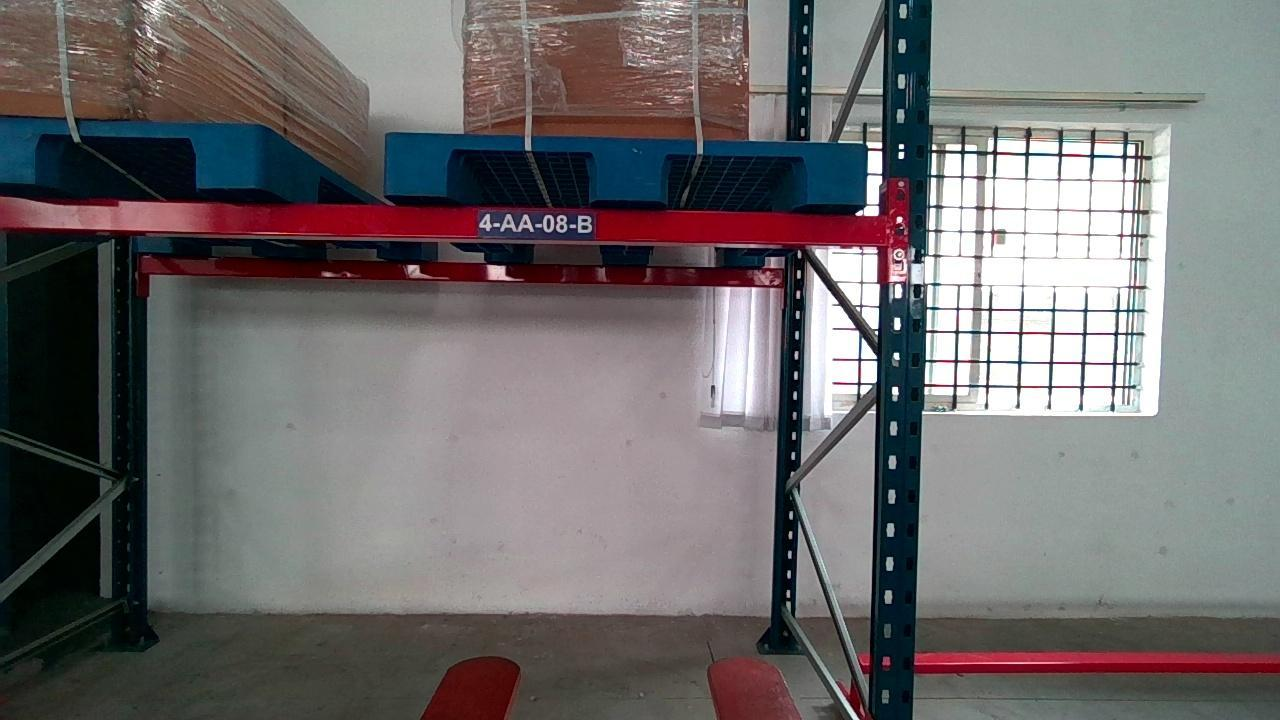h_rack: (0, 195, 890, 244)
small_pallet: (383, 132, 871, 199), (1, 119, 260, 188)
